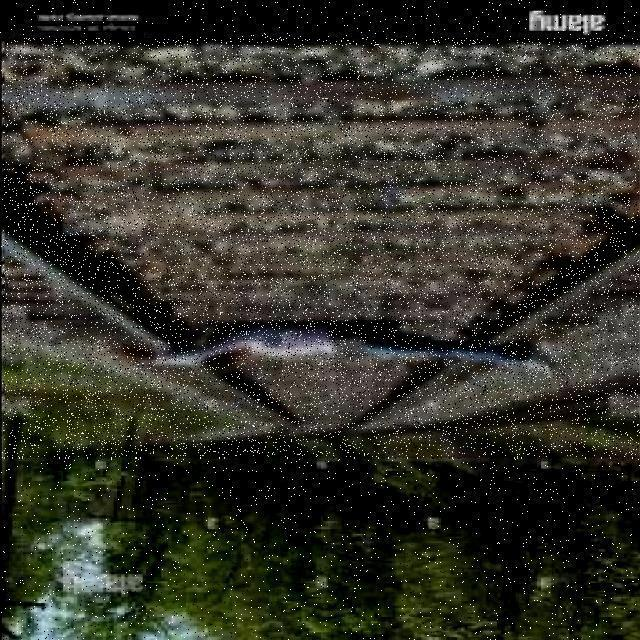rail: (4, 39, 640, 459)
